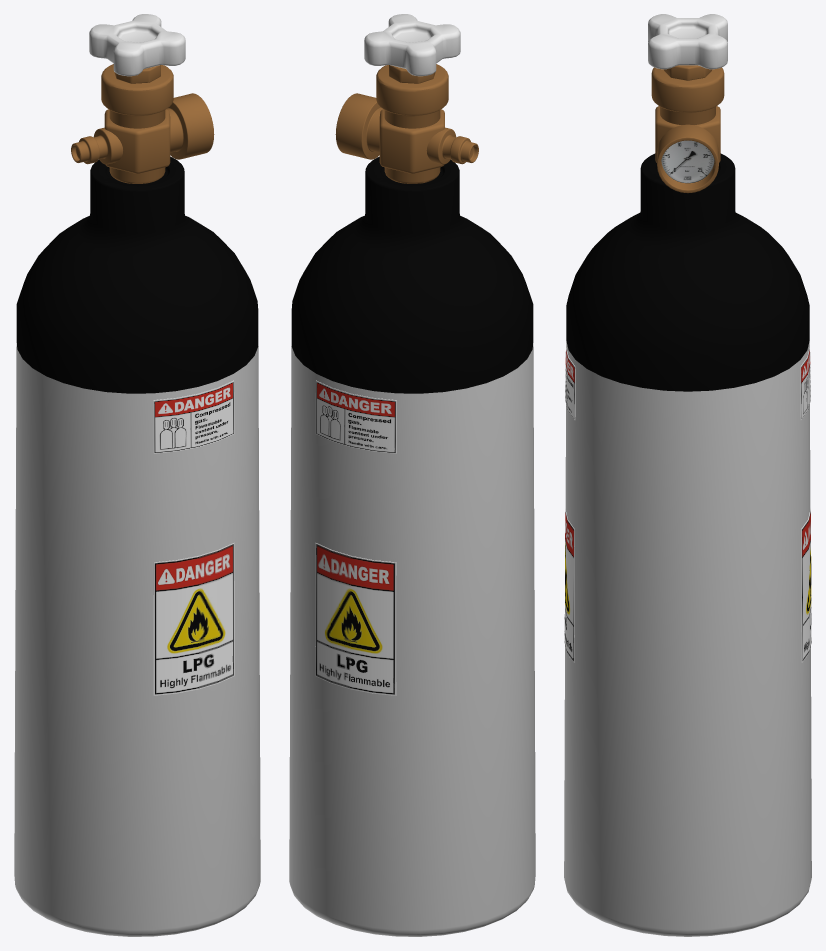
The model's file is gas cylinder.gltf.
3 views of the same model, side by side, from view 1: azimuth 30°, elevation 25°; view 2: azimuth 150°, elevation 25°; view 3: azimuth 270°, elevation 25° (orthographic).
Parts seen in each view (by area): view 1: Sphere, Sphere.002, Sphere.004, Cube.163, Sphere.001, Cylinder.189, Cylinder.192, Cylinder.190; view 2: Sphere, Sphere.003, Sphere.005, Cube.163, Sphere.001, Cylinder.189, Cylinder.192, Cylinder.190; view 3: Sphere, Cube.163, Cylinder.192, Sphere.001, Sphere.003, Sphere.002, Cylinder.189, Sphere.004, Sphere.005, Cylinder.191.
Part boxes in pixels (x1=…): Sphere: x1=14, y1=156, x2=260, y2=936; Sphere.002: x1=153, y1=543, x2=234, y2=695; Sphere.004: x1=153, y1=380, x2=234, y2=453; Cube.163: x1=89, y1=14, x2=185, y2=76; Sphere.001: x1=101, y1=64, x2=173, y2=183; Cylinder.189: x1=104, y1=109, x2=170, y2=173; Cylinder.192: x1=166, y1=93, x2=214, y2=159; Cylinder.190: x1=71, y1=127, x2=122, y2=164; Sphere: x1=289, y1=156, x2=535, y2=936; Sphere.003: x1=315, y1=543, x2=396, y2=695; Sphere.005: x1=315, y1=380, x2=396, y2=453; Cube.163: x1=364, y1=14, x2=460, y2=76; Sphere.001: x1=376, y1=64, x2=448, y2=183; Cylinder.189: x1=379, y1=109, x2=444, y2=173; Cylinder.192: x1=335, y1=93, x2=383, y2=159; Cylinder.190: x1=426, y1=127, x2=478, y2=164; Sphere: x1=564, y1=153, x2=811, y2=936; Cube.163: x1=648, y1=14, x2=727, y2=69; Cylinder.192: x1=657, y1=124, x2=718, y2=192; Sphere.001: x1=651, y1=67, x2=724, y2=124; Sphere.003: x1=801, y1=508, x2=811, y2=662; Sphere.002: x1=564, y1=509, x2=574, y2=662; Cylinder.189: x1=655, y1=106, x2=720, y2=162; Sphere.004: x1=565, y1=346, x2=575, y2=419; Sphere.005: x1=800, y1=346, x2=810, y2=419; Cylinder.191: x1=663, y1=65, x2=712, y2=80.
Size of the model in its own units: 0.629 by 2.41 by 0.629.
8 materials, 3 textured.
